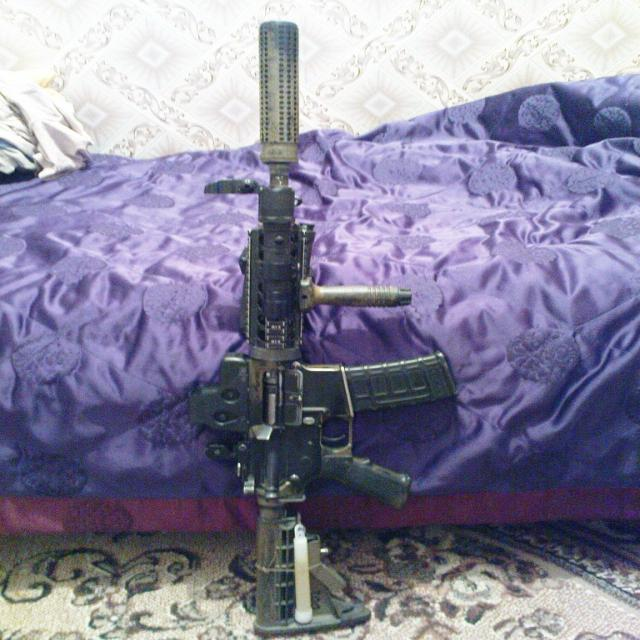firearm: (186, 19, 464, 639)
